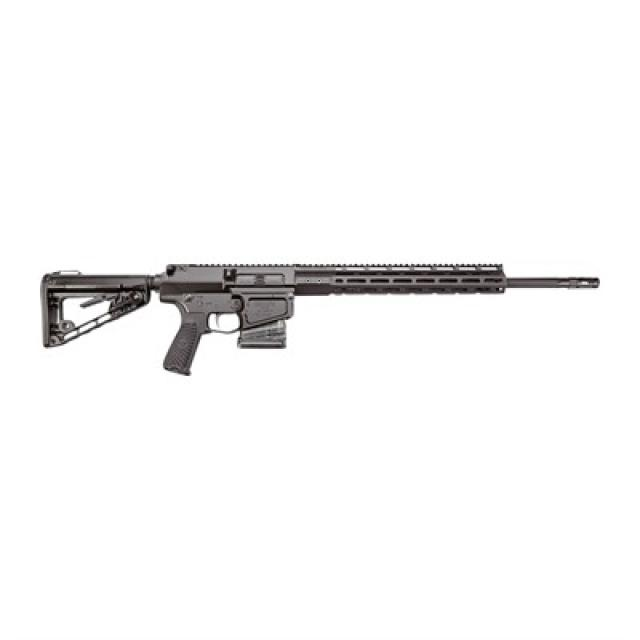Rifle: (38, 264, 600, 378)
